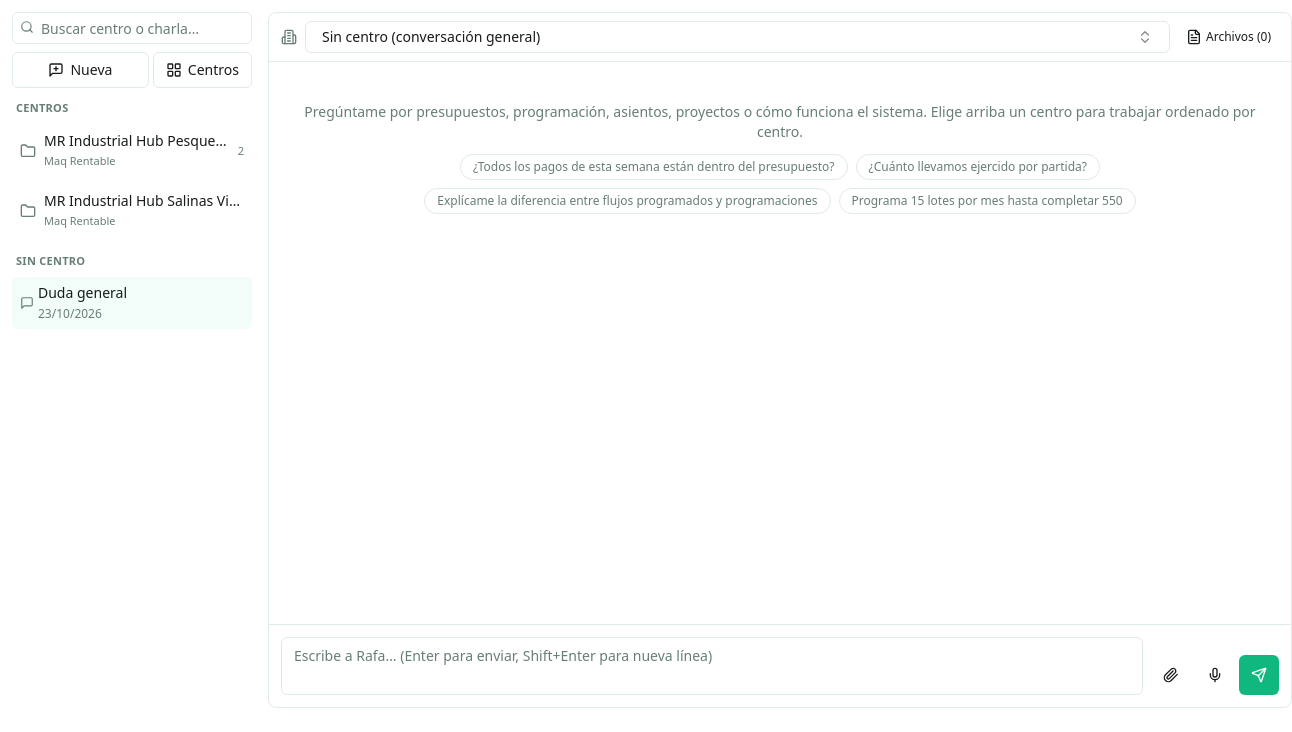
centros como proyectos (tipo ChatGPT) › vista de centros en cuadros: buscar y entrar a un centro
Check: the button titled "CN021" is shown, box [12,124,252,176]
Click the button with aria-label "Ver centros en cuadros" at (202, 70), box [153,52,252,88]
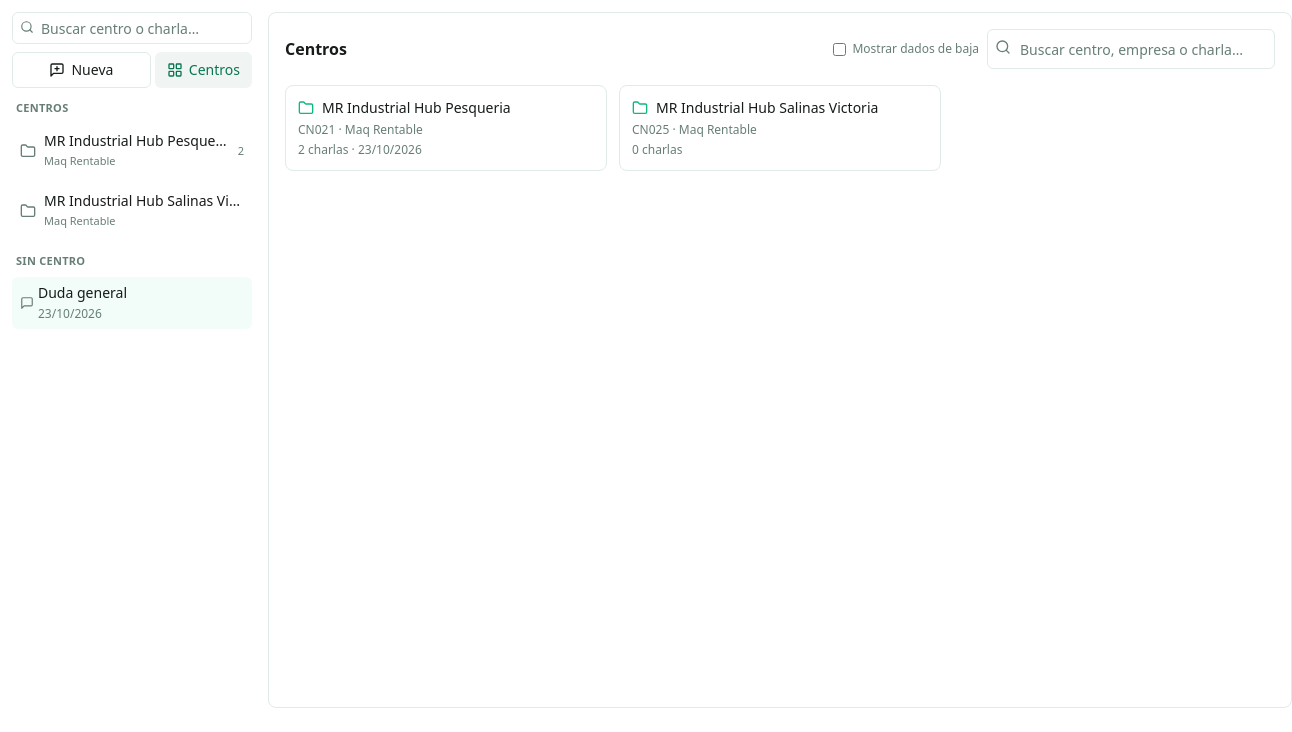
Check: the button with aria-label "Abrir centro CN021" shows "2 charlas", box [285,85,607,171]
Type "salinas" into the field named "Buscar centros" at (1131, 49), box [987,29,1275,69]
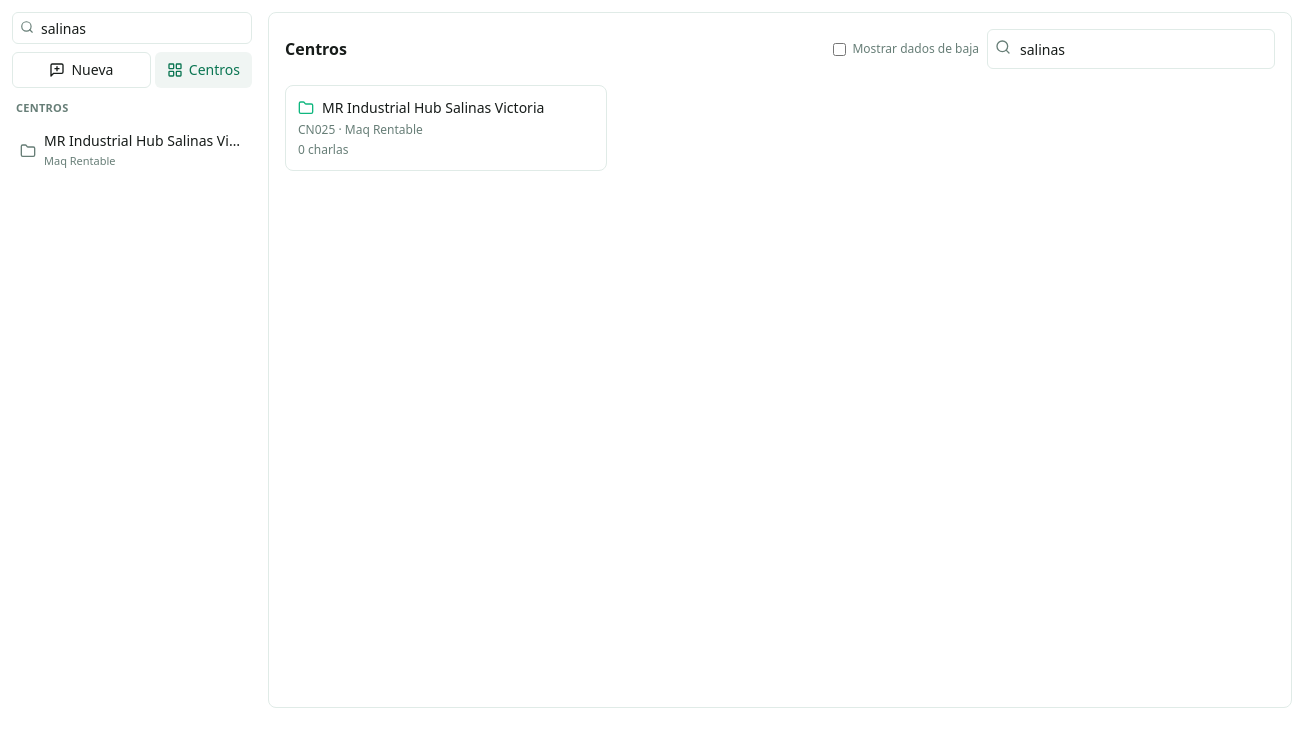
Click the button with aria-label "Abrir centro CN025" at (433, 108), box [285,85,607,171]
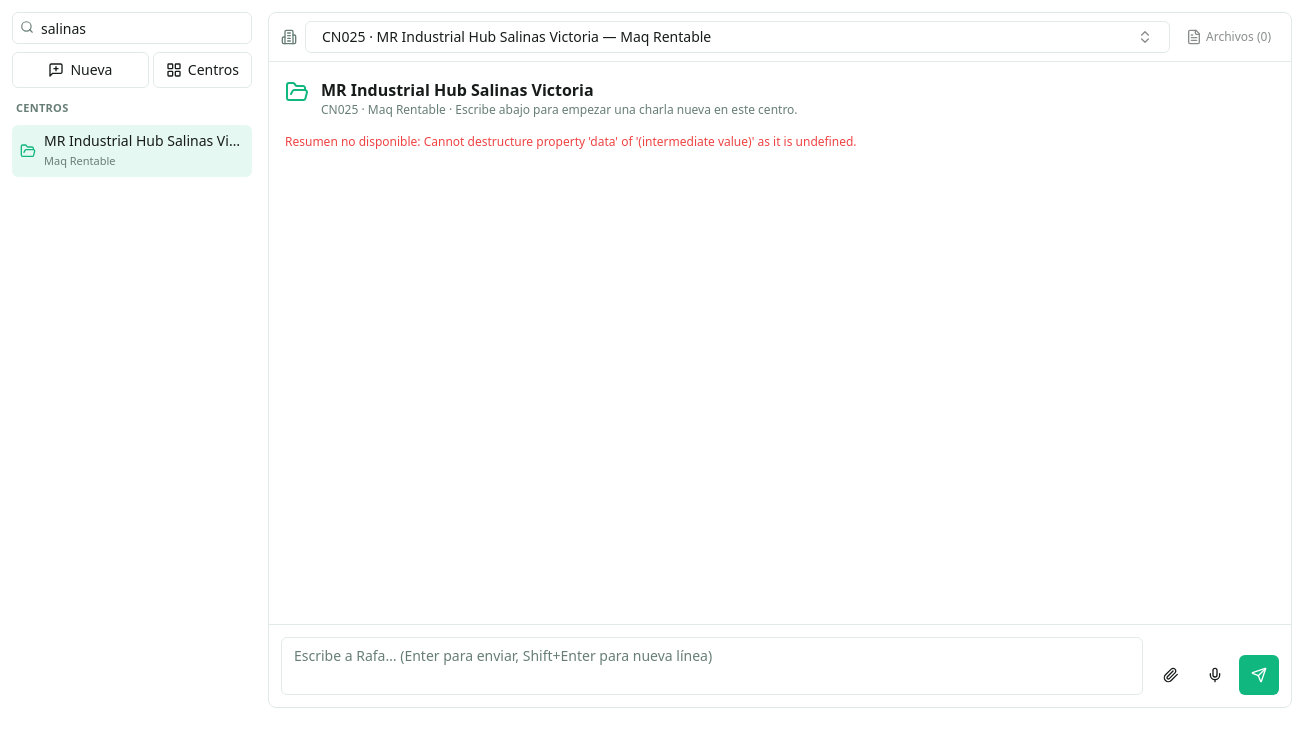
Check: the heading "MR Industrial Hub Salinas Victoria" is shown, box [321,79,594,101]
